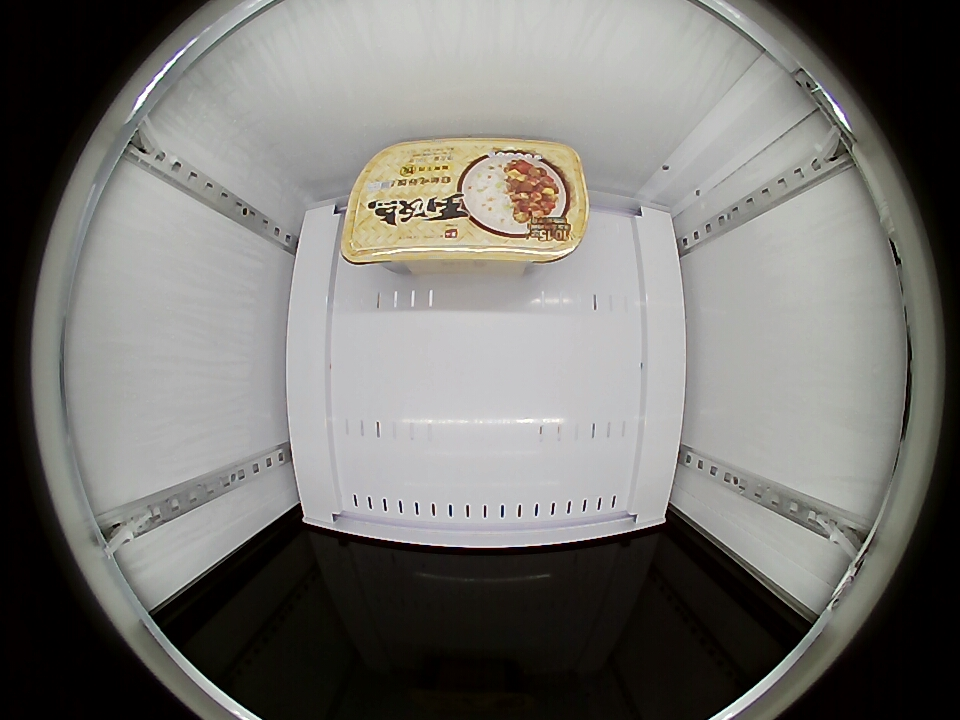daofandian2: (340, 137, 590, 270)
